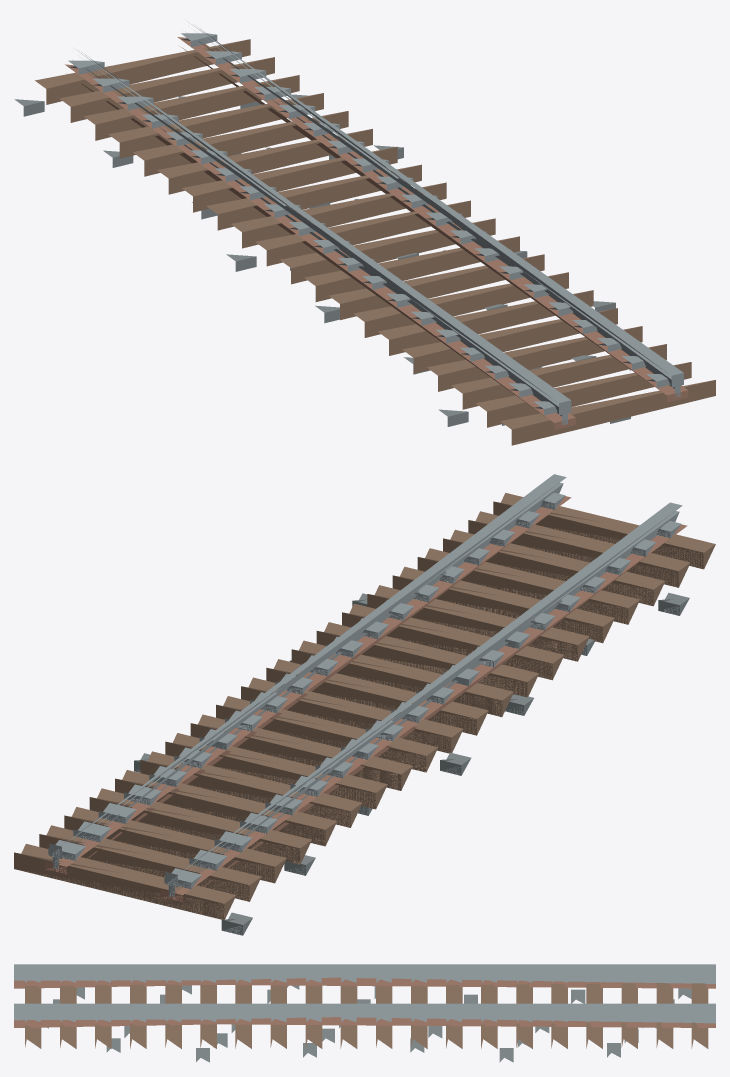
The model's file is track.gltf.
The picture shows the model from 3 angles, top to bottom: view 1: azimuth 30°, elevation 25°; view 2: azimuth 150°, elevation 25°; view 3: azimuth 270°, elevation 25°; orthographic projection. The views are drawn at different scales.
Visible parts, largest first — view 1: rail foot (×2), continuous rail head (×2), rail web (×2), wet timber sleeper 19, wet timber sleeper 0, wet timber sleeper 1, wet timber sleeper 2, wet timber sleeper 3, wet timber sleeper 4, wet timber sleeper 5, wet timber sleeper 6, wet timber sleeper 7 (+11 smaller); view 2: continuous rail head (×2), rail foot (×2), wet timber sleeper 0, rail web (×2), wet timber sleeper 1, wet timber sleeper 2, wet timber sleeper 3, wet timber sleeper 4, wet timber sleeper 5, wet timber sleeper 6, wet timber sleeper 7, wet timber sleeper 9 (+11 smaller); view 3: continuous rail head (×2), rail foot (×2), rail web (×2), wet timber sleeper 1, wet timber sleeper 0, wet timber sleeper 11, wet timber sleeper 10, wet timber sleeper 13, wet timber sleeper 15, wet timber sleeper 14, wet timber sleeper 2, wet timber sleeper 16 (+13 smaller).
Part boxes in pixels (left/top/right/bottom): rail foot (×2): left=65, top=37, right=688, bottom=429; continuous rail head (×2): left=77, top=21, right=683, bottom=415; rail web (×2): left=85, top=29, right=680, bottom=425; wet timber sleeper 19: left=500, top=380, right=715, bottom=445; wet timber sleeper 0: left=35, top=39, right=250, bottom=104; wet timber sleeper 1: left=59, top=57, right=274, bottom=122; wet timber sleeper 2: left=84, top=75, right=299, bottom=140; wet timber sleeper 3: left=108, top=93, right=323, bottom=158; wet timber sleeper 4: left=133, top=111, right=348, bottom=176; wet timber sleeper 5: left=157, top=129, right=372, bottom=194; wet timber sleeper 6: left=182, top=146, right=397, bottom=212; wet timber sleeper 7: left=206, top=164, right=421, bottom=230; continuous rail head (×2): left=49, top=474, right=682, bottom=887; rail foot (×2): left=44, top=496, right=687, bottom=902; wet timber sleeper 0: left=14, top=844, right=236, bottom=920; rail web (×2): left=52, top=482, right=679, bottom=897; wet timber sleeper 1: left=39, top=825, right=261, bottom=901; wet timber sleeper 2: left=64, top=807, right=286, bottom=883; wet timber sleeper 3: left=89, top=788, right=311, bottom=864; wet timber sleeper 4: left=115, top=770, right=337, bottom=846; wet timber sleeper 5: left=140, top=751, right=362, bottom=827; wet timber sleeper 6: left=165, top=733, right=387, bottom=809; wet timber sleeper 7: left=190, top=714, right=412, bottom=790; wet timber sleeper 9: left=241, top=677, right=463, bottom=753; continuous rail head (×2): left=14, top=964, right=715, bottom=1016; rail foot (×2): left=14, top=977, right=715, bottom=1027; rail web (×2): left=14, top=972, right=715, bottom=1023; wet timber sleeper 1: left=656, top=983, right=673, bottom=1048; wet timber sleeper 0: left=691, top=983, right=708, bottom=1048; wet timber sleeper 11: left=305, top=985, right=322, bottom=1048; wet timber sleeper 10: left=340, top=986, right=357, bottom=1048; wet timber sleeper 13: left=235, top=985, right=251, bottom=1048; wet timber sleeper 15: left=165, top=984, right=181, bottom=1048; wet timber sleeper 14: left=200, top=985, right=216, bottom=1048; wet timber sleeper 2: left=621, top=983, right=637, bottom=1048; wet timber sleeper 16: left=130, top=984, right=146, bottom=1048.
Size of the model in its own units: 3.15 by 0.59 by 11.
